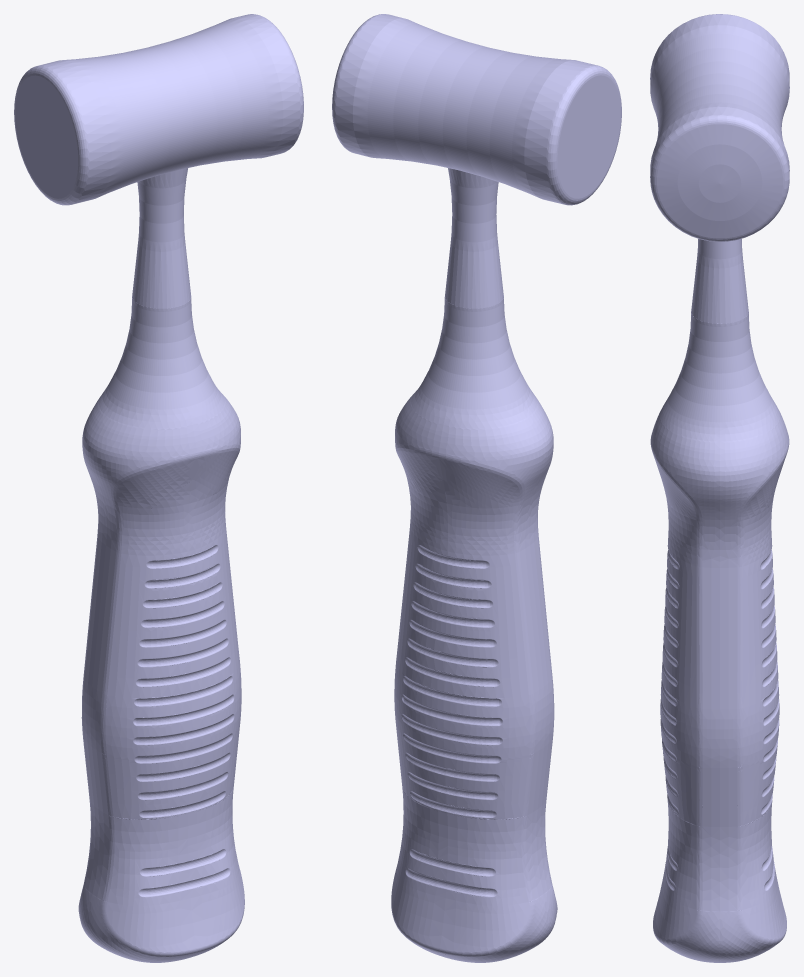
The model's file is Hamemr.obj.
3 views of the same model, side by side, from view 1: azimuth 30°, elevation 25°; view 2: azimuth 150°, elevation 25°; view 3: azimuth 270°, elevation 25° (orthographic). The views are drawn at different scales.
Visible parts, largest first — view 1: Körper1; view 2: Körper1; view 3: Körper1.
Boxes of the visible parts, bbox=[...] form: Körper1: bbox=[14, 14, 303, 962]; Körper1: bbox=[332, 14, 621, 962]; Körper1: bbox=[650, 14, 789, 962].
Size of the model in its own units: 0.063 by 0.238 by 0.034.
